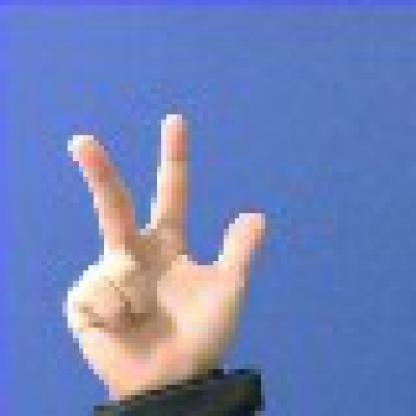eight: (34, 78, 303, 402)
